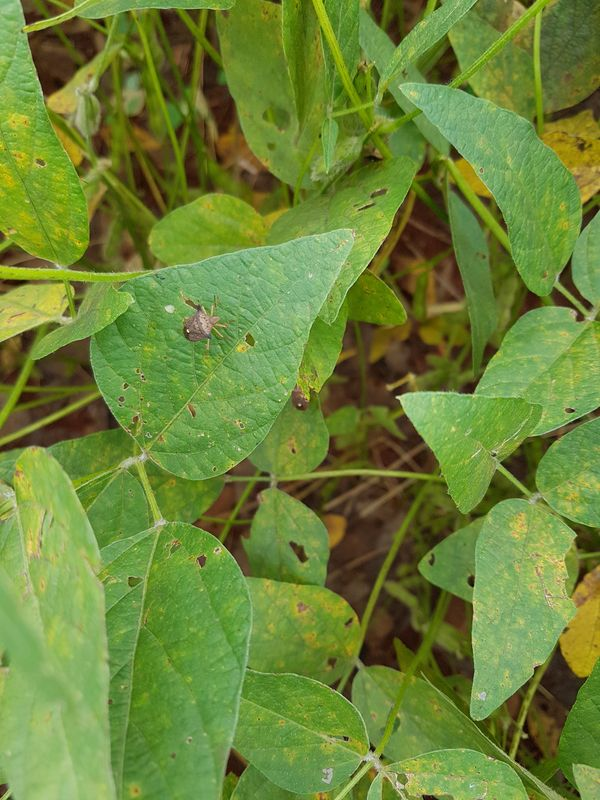Euschistus_heros_adulto: (174, 293, 234, 355), (284, 381, 315, 415)
